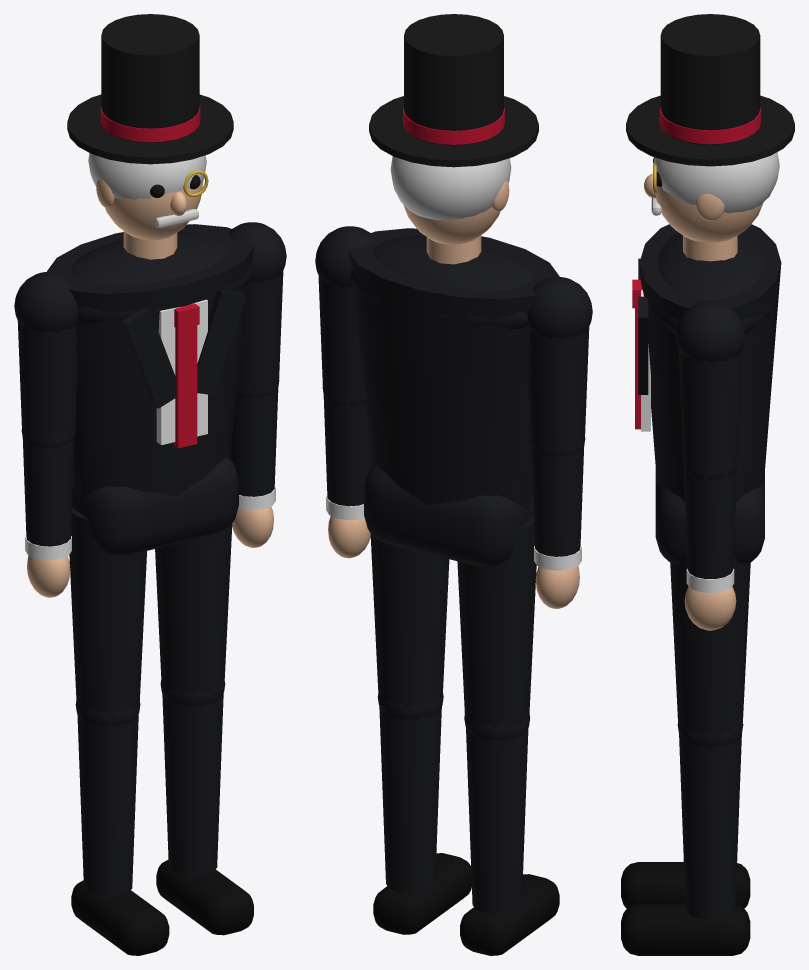
Rendered from alec_monopoly.glb.
3 views of the same model, side by side, from view 1: azimuth 30°, elevation 25°; view 2: azimuth 150°, elevation 25°; view 3: azimuth 270°, elevation 25° (orthographic).
Visible parts, largest first — view 1: body, leg_L, leg_R, arm_L, arm_R; view 2: body, leg_L, leg_R, arm_L, arm_R; view 3: body, leg_R, arm_R, leg_L.
Part boxes in pixels (box(x1,y1,x2,y2)): body: box(47, 14, 253, 556); leg_L: box(69, 507, 169, 955); leg_R: box(155, 523, 253, 935); arm_L: box(14, 272, 78, 597); arm_R: box(228, 222, 286, 547); body: box(348, 14, 559, 566); leg_L: box(457, 517, 559, 955); leg_R: box(370, 533, 471, 934); arm_L: box(527, 277, 592, 608); arm_R: box(315, 226, 374, 558); body: box(626, 14, 794, 564); leg_R: box(621, 555, 750, 955); arm_R: box(675, 300, 745, 630); leg_L: box(621, 862, 750, 908).
Size of the model in its own units: 0.62 by 1.99 by 0.35.
